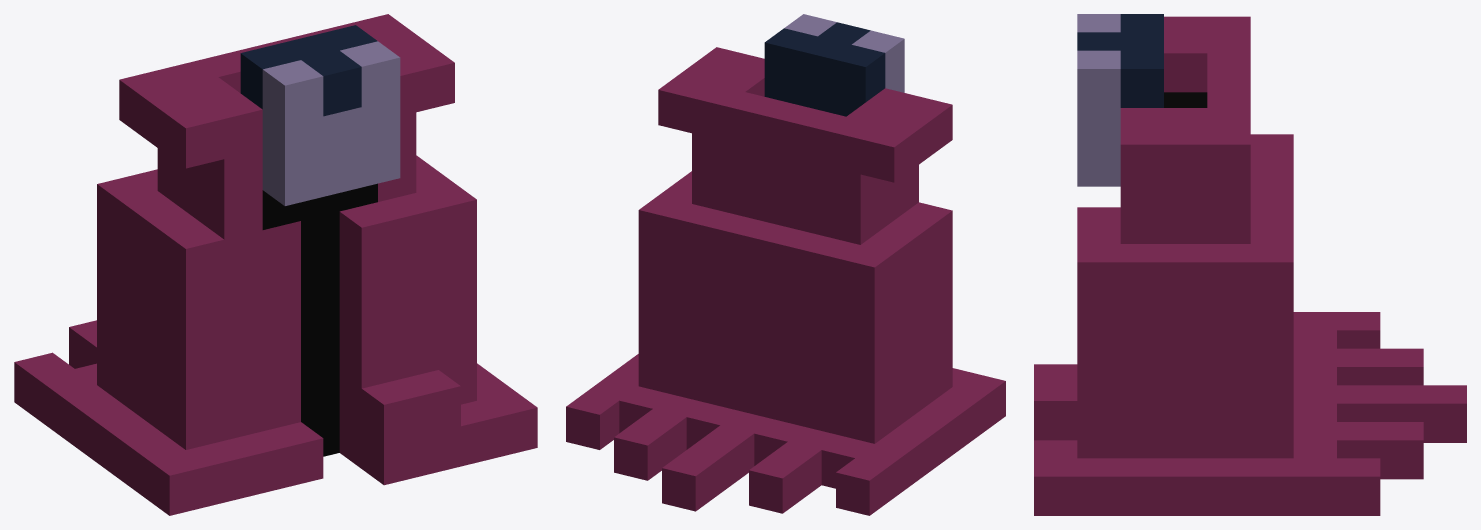
The model's file is vampire_walk_1.obj.
The picture shows the model from 3 angles, left to right: view 1: azimuth 30°, elevation 25°; view 2: azimuth 150°, elevation 25°; view 3: azimuth 270°, elevation 25°; orthographic projection. The views are drawn at different scales.
Size of the model in its own units: 0.9 by 1 by 1.
Materials: 1 (1 with a texture image).
